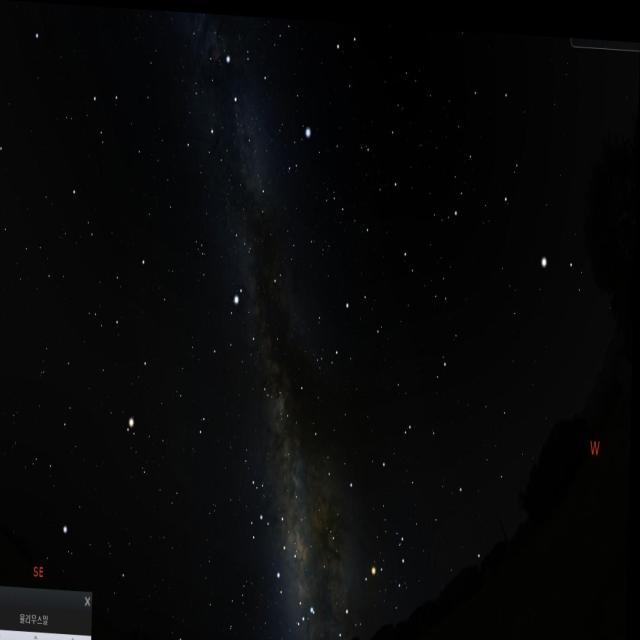aquila: (210, 243, 290, 407)
bootes: (455, 61, 596, 321)
cygnus: (203, 42, 275, 228)
lyra: (276, 118, 319, 182)
sagittarius: (246, 478, 306, 584)
scorpius: (296, 502, 422, 632)
